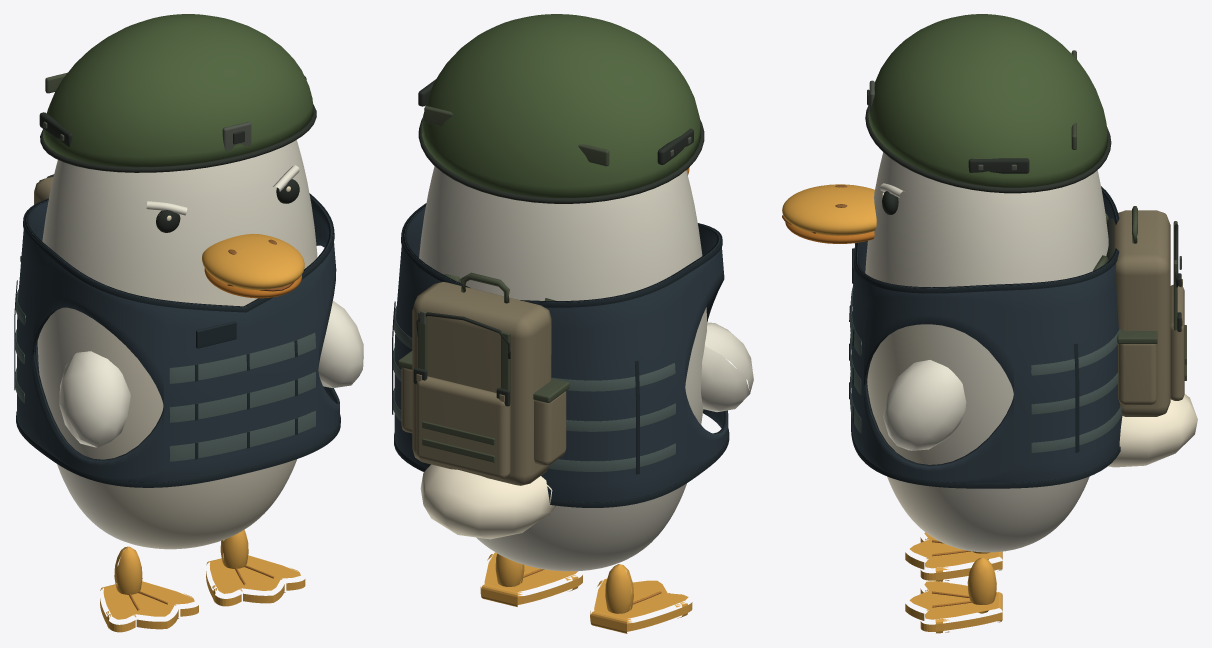
Rendered from goose-refined-armor.glb.
3 views of the same model, side by side, from view 1: azimuth 30°, elevation 25°; view 2: azimuth 150°, elevation 25°; view 3: azimuth 270°, elevation 25° (orthographic). The views are drawn at different scales.
Visible parts, largest first — view 1: goose_vest_refined_mesh, goose_torso_mesh, goose_helmet_field_mesh, goose_leftArm_mesh, goose_beak_mesh, goose_leftFoot_mesh, goose_rightFoot_mesh, goose_rightArm_mesh; view 2: goose_helmet_field_mesh, goose_vest_refined_mesh, goose_torso_mesh, goose_pack_field_mesh, goose_tail_mesh, goose_leftFoot_mesh, goose_leftArm_mesh, goose_rightFoot_mesh; view 3: goose_torso_mesh, goose_vest_refined_mesh, goose_helmet_field_mesh, goose_pack_field_mesh, goose_rightArm_mesh, goose_beak_mesh, goose_rightFoot_mesh, goose_tail_mesh, goose_leftFoot_mesh.
Part boxes in pixels (x1,y1,x2,y2): goose_vest_refined_mesh: (14,193,340,487); goose_torso_mesh: (37,140,317,549); goose_helmet_field_mesh: (39,14,316,172); goose_leftArm_mesh: (59,351,130,447); goose_beak_mesh: (202,233,304,298); goose_leftFoot_mesh: (100,546,198,632); goose_rightFoot_mesh: (206,529,305,606); goose_rightArm_mesh: (318,301,363,387); goose_helmet_field_mesh: (418,14,704,203); goose_vest_refined_mesh: (392,203,729,507); goose_torso_mesh: (419,166,707,571); goose_pack_field_mesh: (398,272,569,485); goose_tail_mesh: (420,464,556,539); goose_leftFoot_mesh: (590,564,692,633); goose_leftArm_mesh: (701,322,753,412); goose_rightFoot_mesh: (480,552,582,606); goose_torso_mesh: (865,152,1108,552); goose_vest_refined_mesh: (849,186,1122,488); goose_helmet_field_mesh: (865,14,1111,193); goose_pack_field_mesh: (1093,206,1186,416); goose_rightArm_mesh: (883,360,966,450); goose_beak_mesh: (782,184,876,243); goose_rightFoot_mesh: (905,557,1002,633); goose_tail_mesh: (1108,394,1197,467); goose_leftFoot_mesh: (905,532,1002,581).
Bounding box in the file's own units: 1.1 × 2.03 × 1.37.
